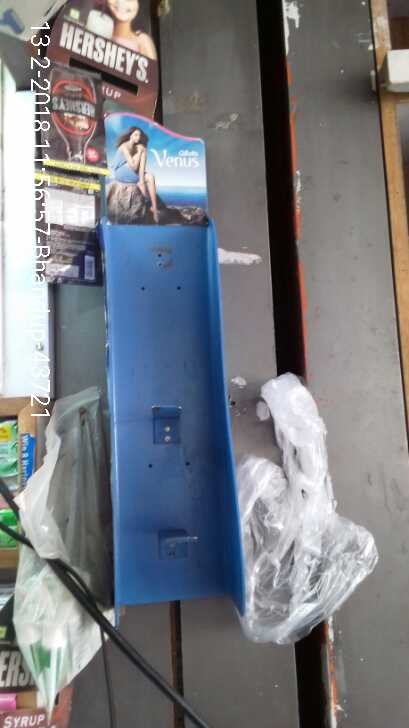reject: (103, 279, 248, 538)
